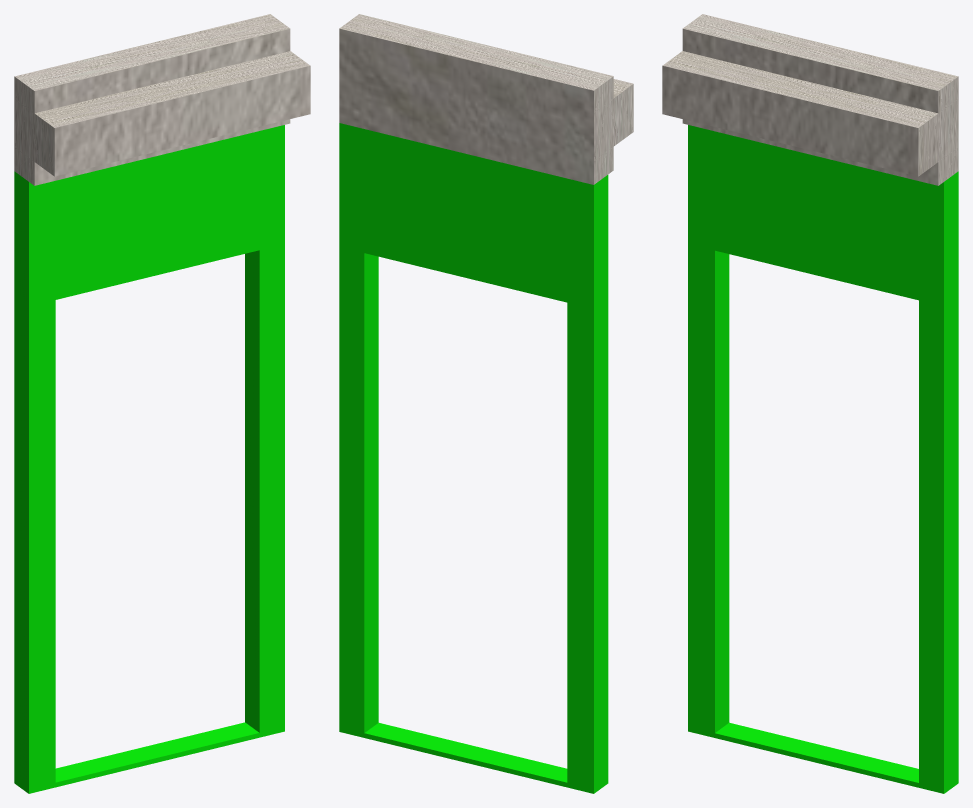
The model's file is DoorFrameV4.fbx.
3 renders of one model, left to right at view 1: azimuth 30°, elevation 25°; view 2: azimuth 150°, elevation 25°; view 3: azimuth 330°, elevation 25°, orthographic.
Parts seen in each view (by area): view 1: cafe_wall10; view 2: cafe_wall10; view 3: cafe_wall10.
Part boxes in pixels (x1,y1,x2,y2): cafe_wall10: (14,14,310,793); cafe_wall10: (339,14,633,793); cafe_wall10: (662,14,958,793).
Size of the model in its own units: 233 by 615 by 63.22.
